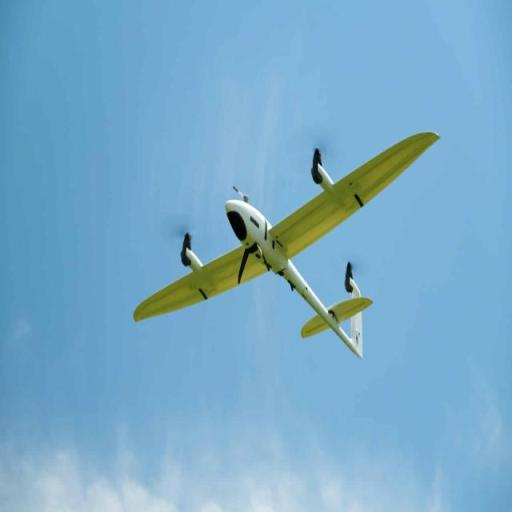uav: (130, 116, 444, 382)
